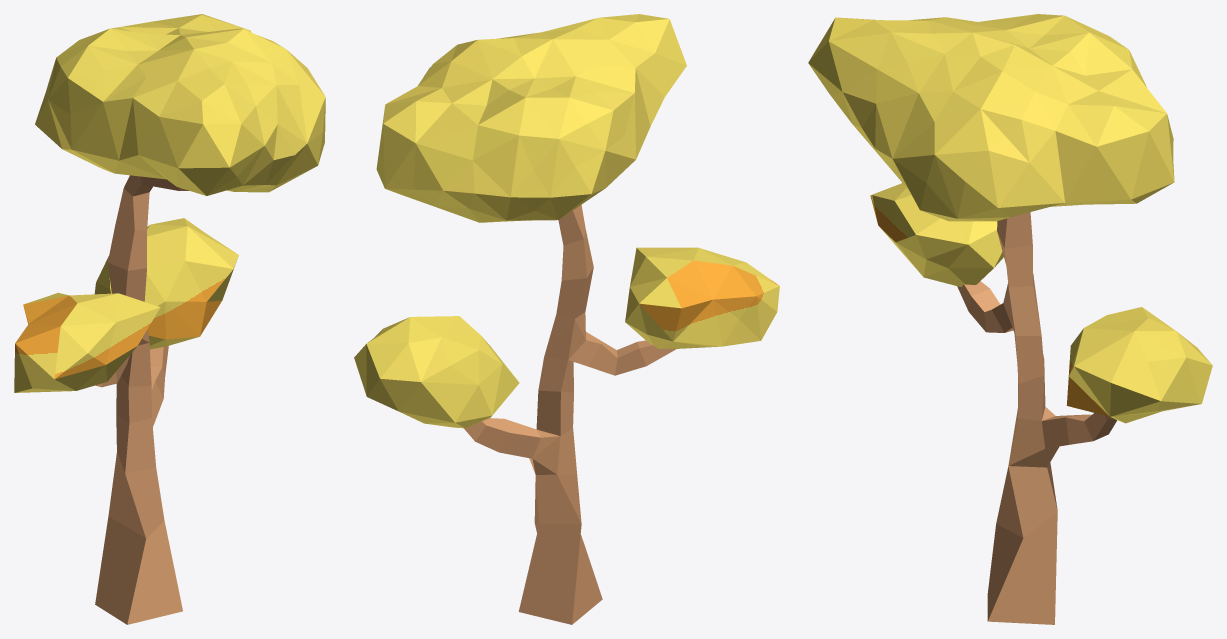
File: TreePackage.fbx_Tree_002.fbx
The picture shows the model from 3 angles, left to right: view 1: azimuth 30°, elevation 25°; view 2: azimuth 150°, elevation 25°; view 3: azimuth 270°, elevation 25°; orthographic projection. The views are drawn at different scales.
Parts seen in each view (by area): view 1: Icosphere.001, Plane.001; view 2: Icosphere.001, Plane.001; view 3: Icosphere.001, Plane.001.
Boxes of the visible parts, x1,y1,x2,y2 form: Icosphere.001: [14, 14, 325, 392]; Plane.001: [95, 175, 189, 624]; Icosphere.001: [354, 14, 779, 428]; Plane.001: [464, 205, 676, 624]; Icosphere.001: [808, 14, 1212, 423]; Plane.001: [957, 212, 1116, 624].
Bounding box in the file's own units: 281 × 456 × 282.
